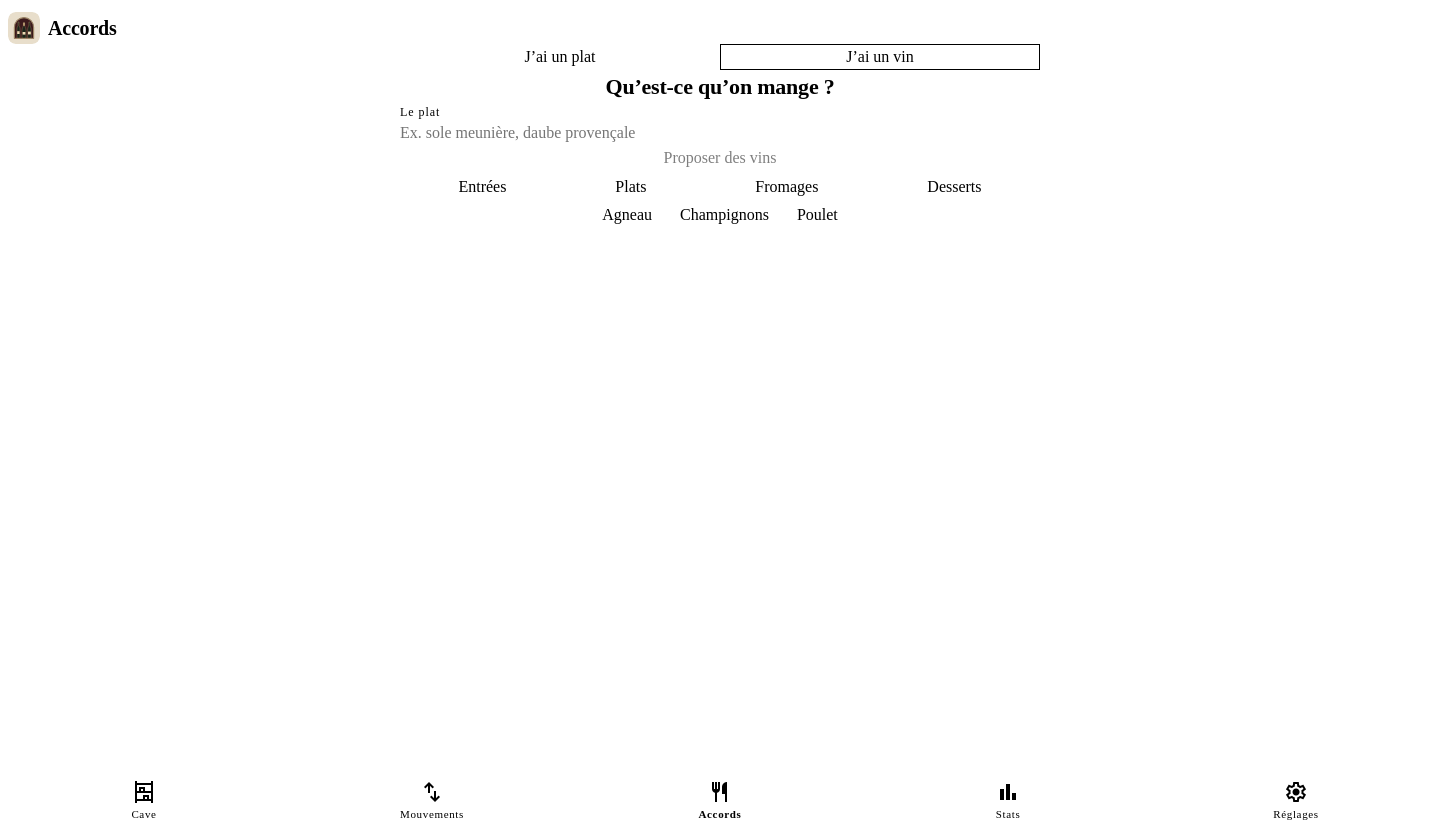
Test: accord local immédiat sur l’ingrédient dominant, bascule vers un autre ingrédient reconnu
Step 1. Type "Poulet aux morilles" into the field labelled "Le plat" → (720, 133), box [400,121,1040,145]
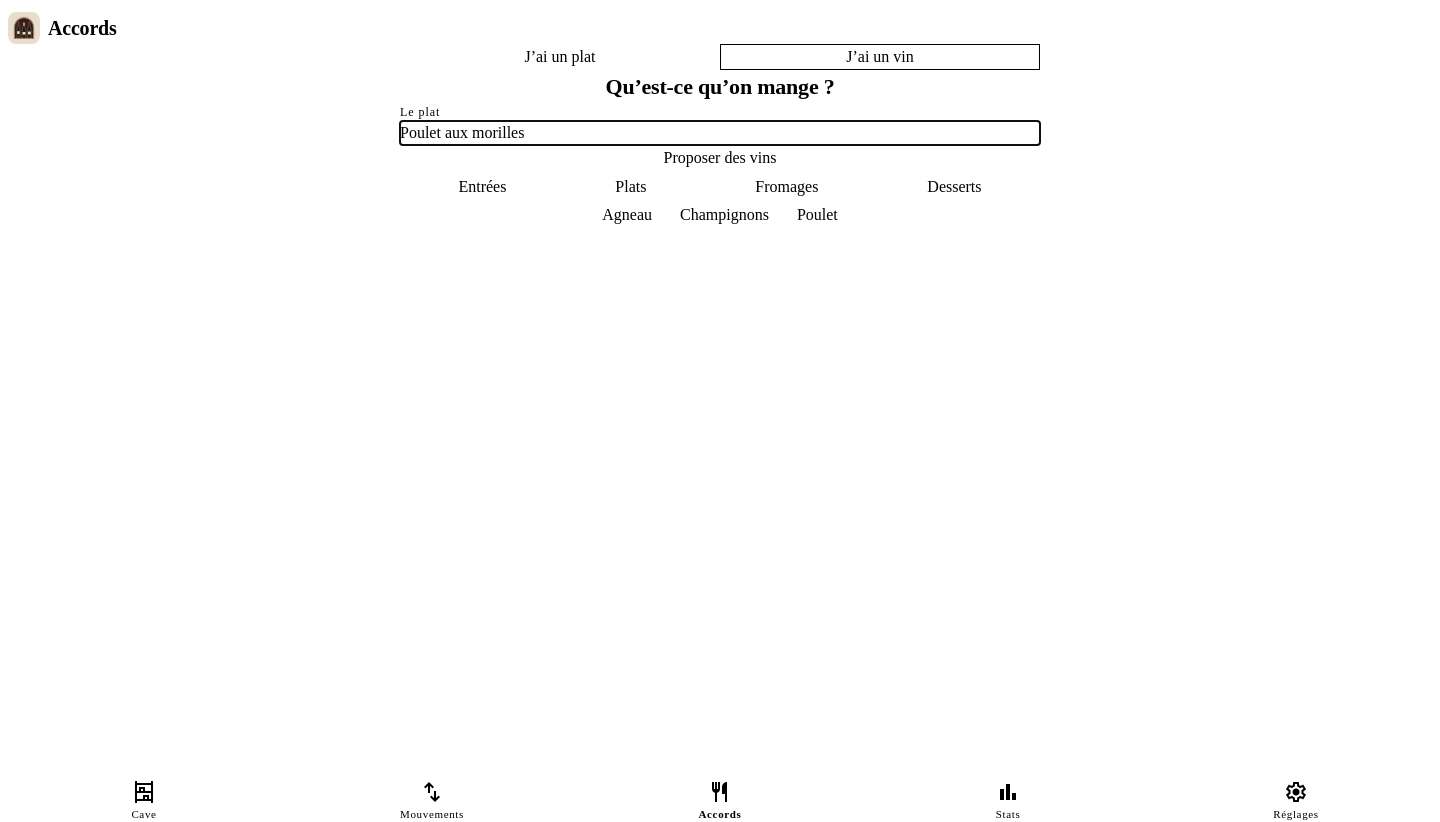
Step 2. Click the button "Proposer des vins" → click(720, 158), box [400,145,1040,171]
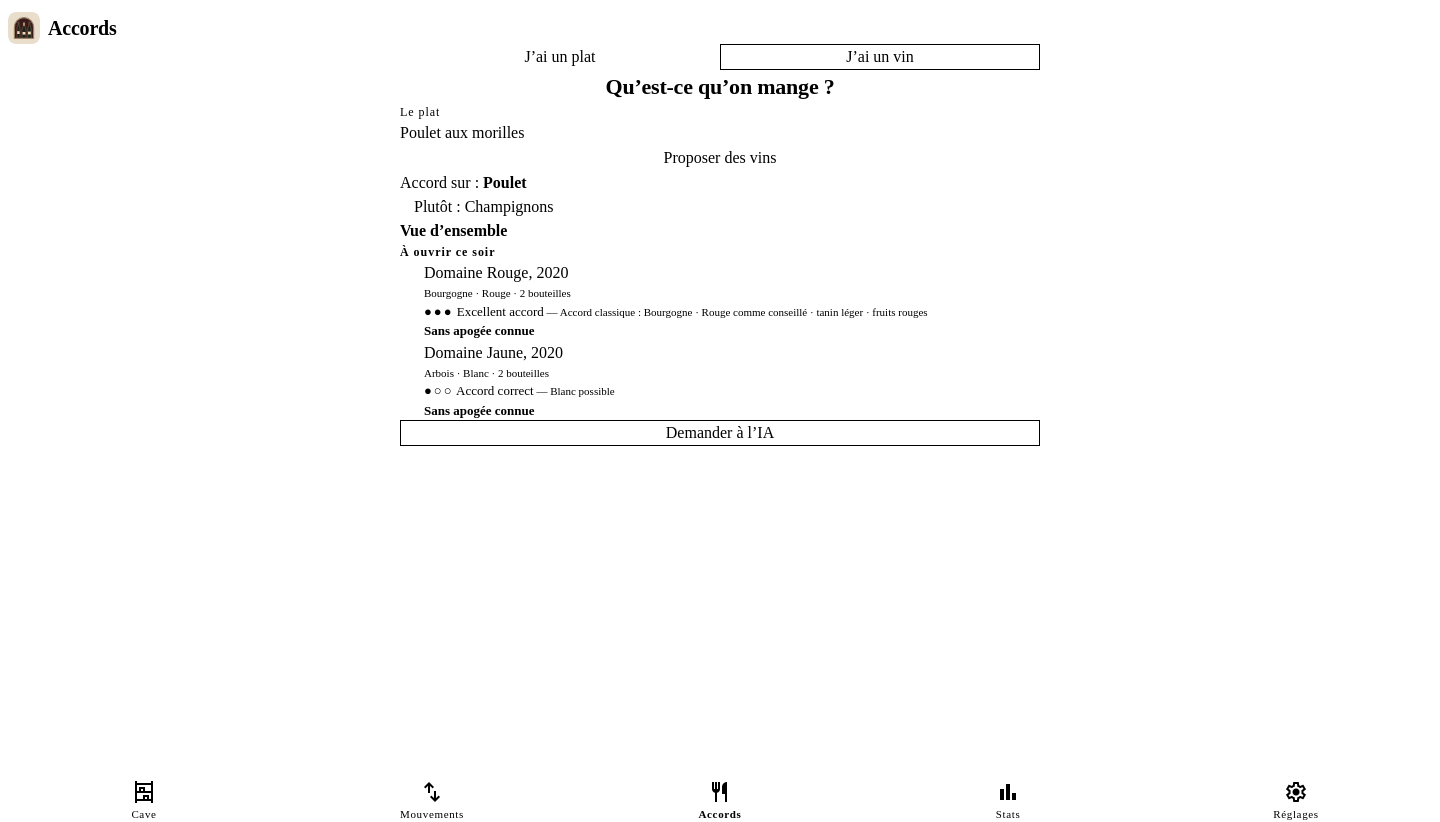
Check: the text "Bourgogne · Rouge · 2 bouteilles" is shown, box [424,287,571,299]
Check: the text "Excellent accord" is shown, box [457,304,544,318]
Check: the text "Accord classique : Bourgogne · Rouge comme conseillé · tanin léger · fruits rouges" is shown, box [560,306,928,318]
Step 3. Click the button "Plutôt : Champignons" → click(484, 207), box [400,195,568,219]
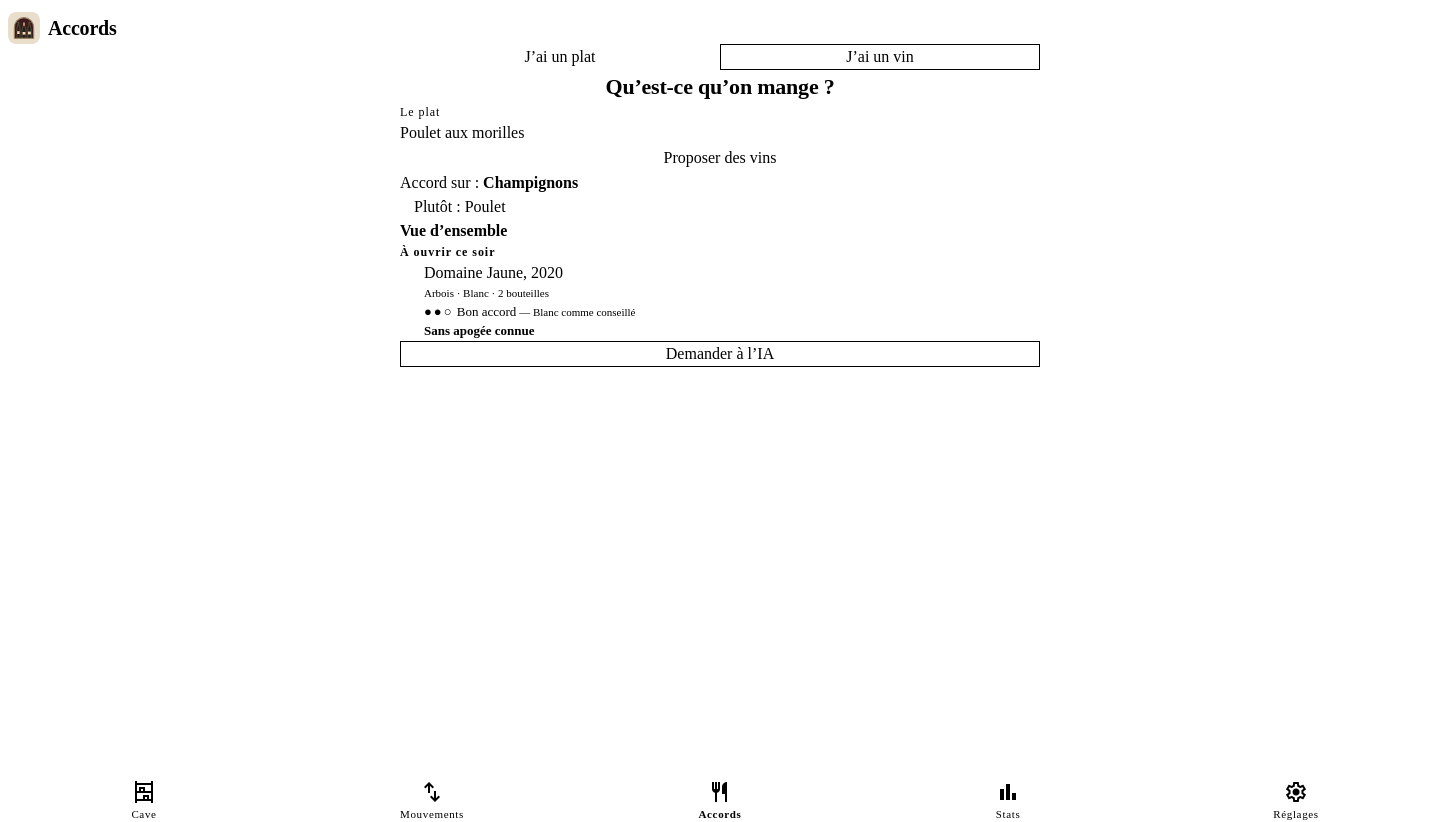
Check: the link "Domaine Jaune" is shown, box [408,264,636,338]
Check: the text "Champignons" is shown, box [483,174,578,191]
Check: the link "Domaine Rouge" is gone
